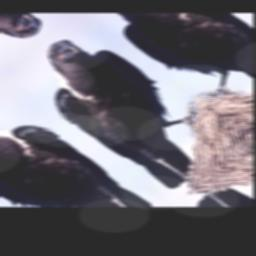Crow: (7, 22, 243, 198)
